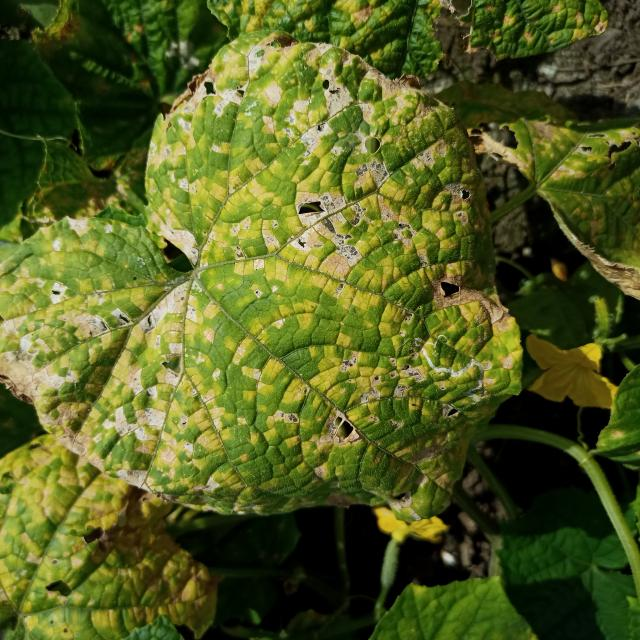disease_cucumber: (4, 54, 533, 516), (0, 442, 212, 640)
